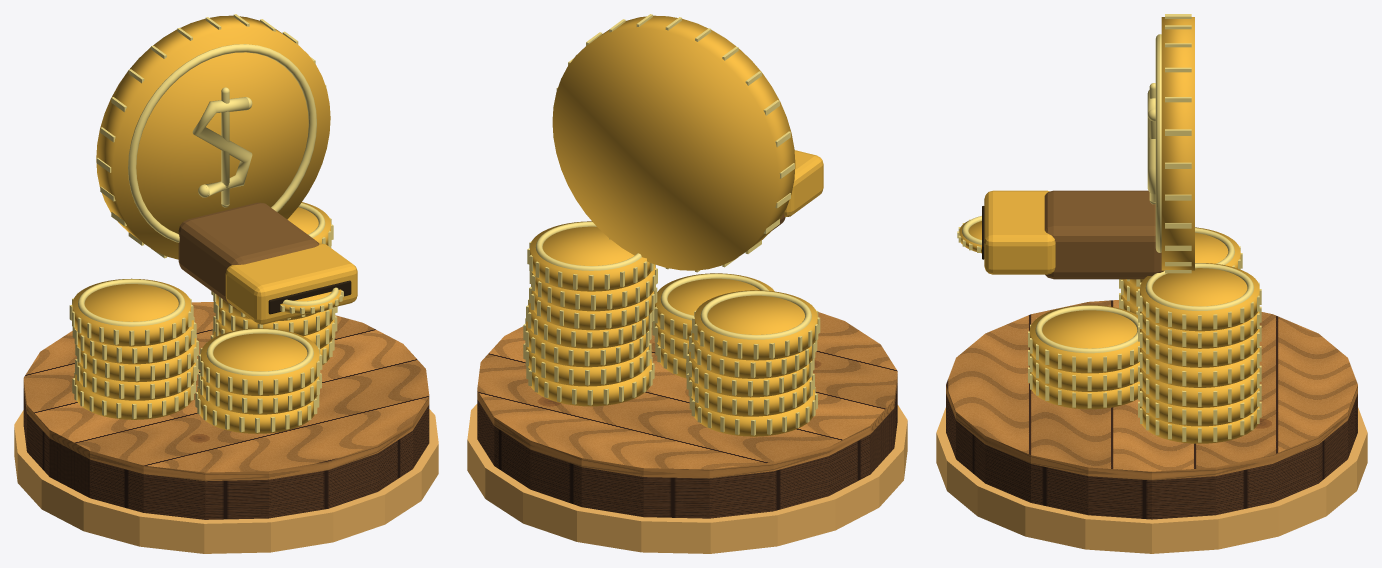
The model's file is Gold.glb.
The picture shows the model from 3 angles, left to right: view 1: azimuth 30°, elevation 25°; view 2: azimuth 150°, elevation 25°; view 3: azimuth 270°, elevation 25°; orthographic projection. The views are drawn at different scales.
Parts seen in each view (by area): view 1: Gold Head, pedestal, rim; view 2: Gold Head, pedestal, rim; view 3: Gold Head, pedestal, rim.
Part boxes in pixels (bbox=[...]): Gold Head: bbox=[69, 14, 357, 433]; pedestal: bbox=[23, 302, 429, 519]; rim: bbox=[14, 409, 438, 553]; Gold Head: bbox=[523, 14, 823, 436]; pedestal: bbox=[477, 312, 897, 518]; rim: bbox=[467, 404, 907, 553]; Gold Head: bbox=[957, 14, 1261, 443]; pedestal: bbox=[946, 300, 1357, 519]; rim: bbox=[936, 407, 1367, 553].
Size of the model in its own units: 0.9 by 1.01 by 0.9.
Materials: 7 (2 with a texture image).
